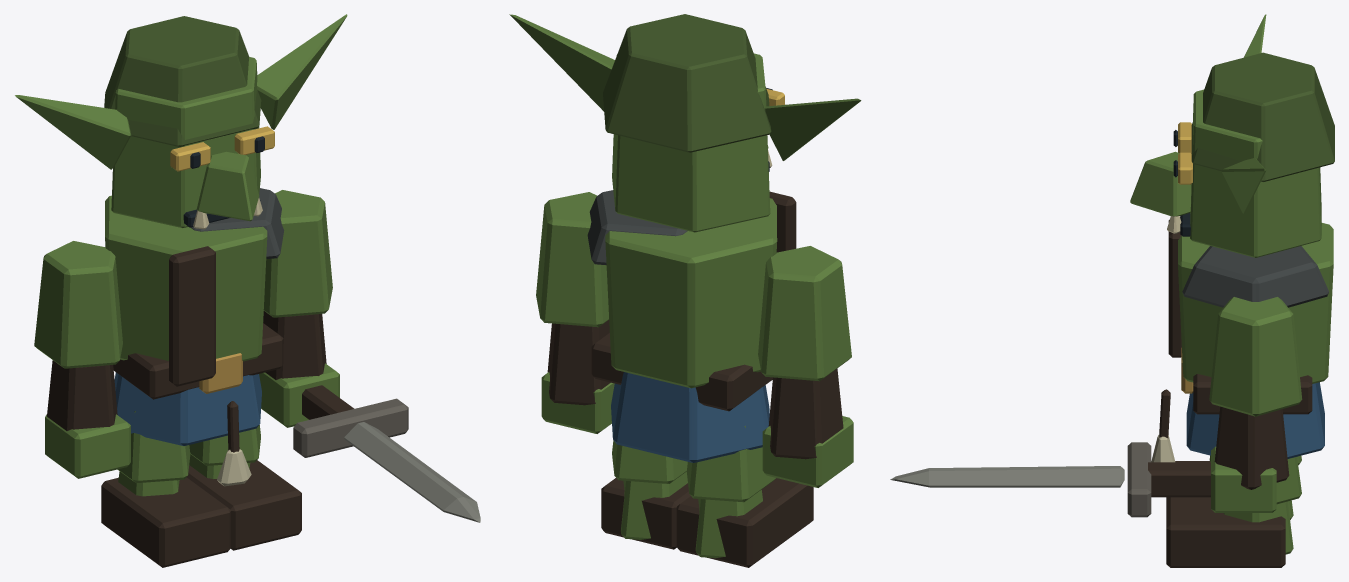
Rendered from goblin.glb.
3 views of the same model, side by side, from view 1: azimuth 30°, elevation 25°; view 2: azimuth 150°, elevation 25°; view 3: azimuth 270°, elevation 25° (orthographic). The views are drawn at different scales.
Visible parts, largest first — view 1: head.004, torso.004, pelvis.004, upper_arm_l.004, shin_l.004, weapon.004, forearm_l.004, upper_arm_r.004, shin_r.004, forearm_r.004, thigh_l.004, thigh_r.004 (+1 smaller); view 2: head.004, torso.004, pelvis.004, upper_arm_l.004, forearm_l.004, shin_l.004, upper_arm_r.004, forearm_r.004, shin_r.004, thigh_l.004, thigh_r.004; view 3: head.004, torso.004, upper_arm_r.004, weapon.004, shin_r.004, forearm_r.004, pelvis.004, talisman, thigh_r.004.
Part boxes in pixels (x1=…): head.004: x1=15, y1=14, x2=347, y2=229; torso.004: x1=105, y1=188, x2=284, y2=386; pelvis.004: x1=113, y1=323, x2=283, y2=445; upper_arm_l.004: x1=34, y1=241, x2=122, y2=368; shin_l.004: x1=101, y1=471, x2=230, y2=567; weapon.004: x1=293, y1=385, x2=480, y2=522; forearm_l.004: x1=45, y1=360, x2=130, y2=478; upper_arm_r.004: x1=263, y1=190, x2=332, y2=317; shin_r.004: x1=186, y1=454, x2=301, y2=550; forearm_r.004: x1=259, y1=311, x2=339, y2=427; thigh_l.004: x1=117, y1=411, x2=190, y2=483; thigh_r.004: x1=189, y1=425, x2=260, y2=465; head.004: x1=509, y1=14, x2=861, y2=232; torso.004: x1=587, y1=190, x2=796, y2=388; pelvis.004: x1=591, y1=333, x2=772, y2=462; upper_arm_l.004: x1=758, y1=246, x2=851, y2=381; forearm_l.004: x1=762, y1=368, x2=853, y2=487; shin_l.004: x1=676, y1=478, x2=813, y2=567; upper_arm_r.004: x1=536, y1=192, x2=609, y2=327; forearm_r.004: x1=541, y1=320, x2=614, y2=433; shin_r.004: x1=601, y1=471, x2=690, y2=549; thigh_l.004: x1=686, y1=426, x2=775, y2=502; thigh_r.004: x1=612, y1=440, x2=687, y2=483; head.004: x1=1130, y1=14, x2=1334, y2=257; torso.004: x1=1168, y1=217, x2=1333, y2=383; upper_arm_r.004: x1=1209, y1=297, x2=1302, y2=416; weapon.004: x1=890, y1=442, x2=1210, y2=517; shin_r.004: x1=1166, y1=497, x2=1293, y2=567; forearm_r.004: x1=1211, y1=406, x2=1289, y2=512; pelvis.004: x1=1181, y1=347, x2=1324, y2=458; talisman: x1=1151, y1=389, x2=1175, y2=462; thigh_r.004: x1=1276, y1=457, x2=1301, y2=504.
Bounding box in the file's own units: 1.24 × 1.7 × 1.49.
